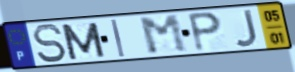I: (109, 18, 127, 59)
J: (233, 8, 260, 49)
M: (136, 13, 191, 57), (58, 20, 108, 61)
P: (186, 10, 224, 54)
S: (30, 23, 69, 65)
